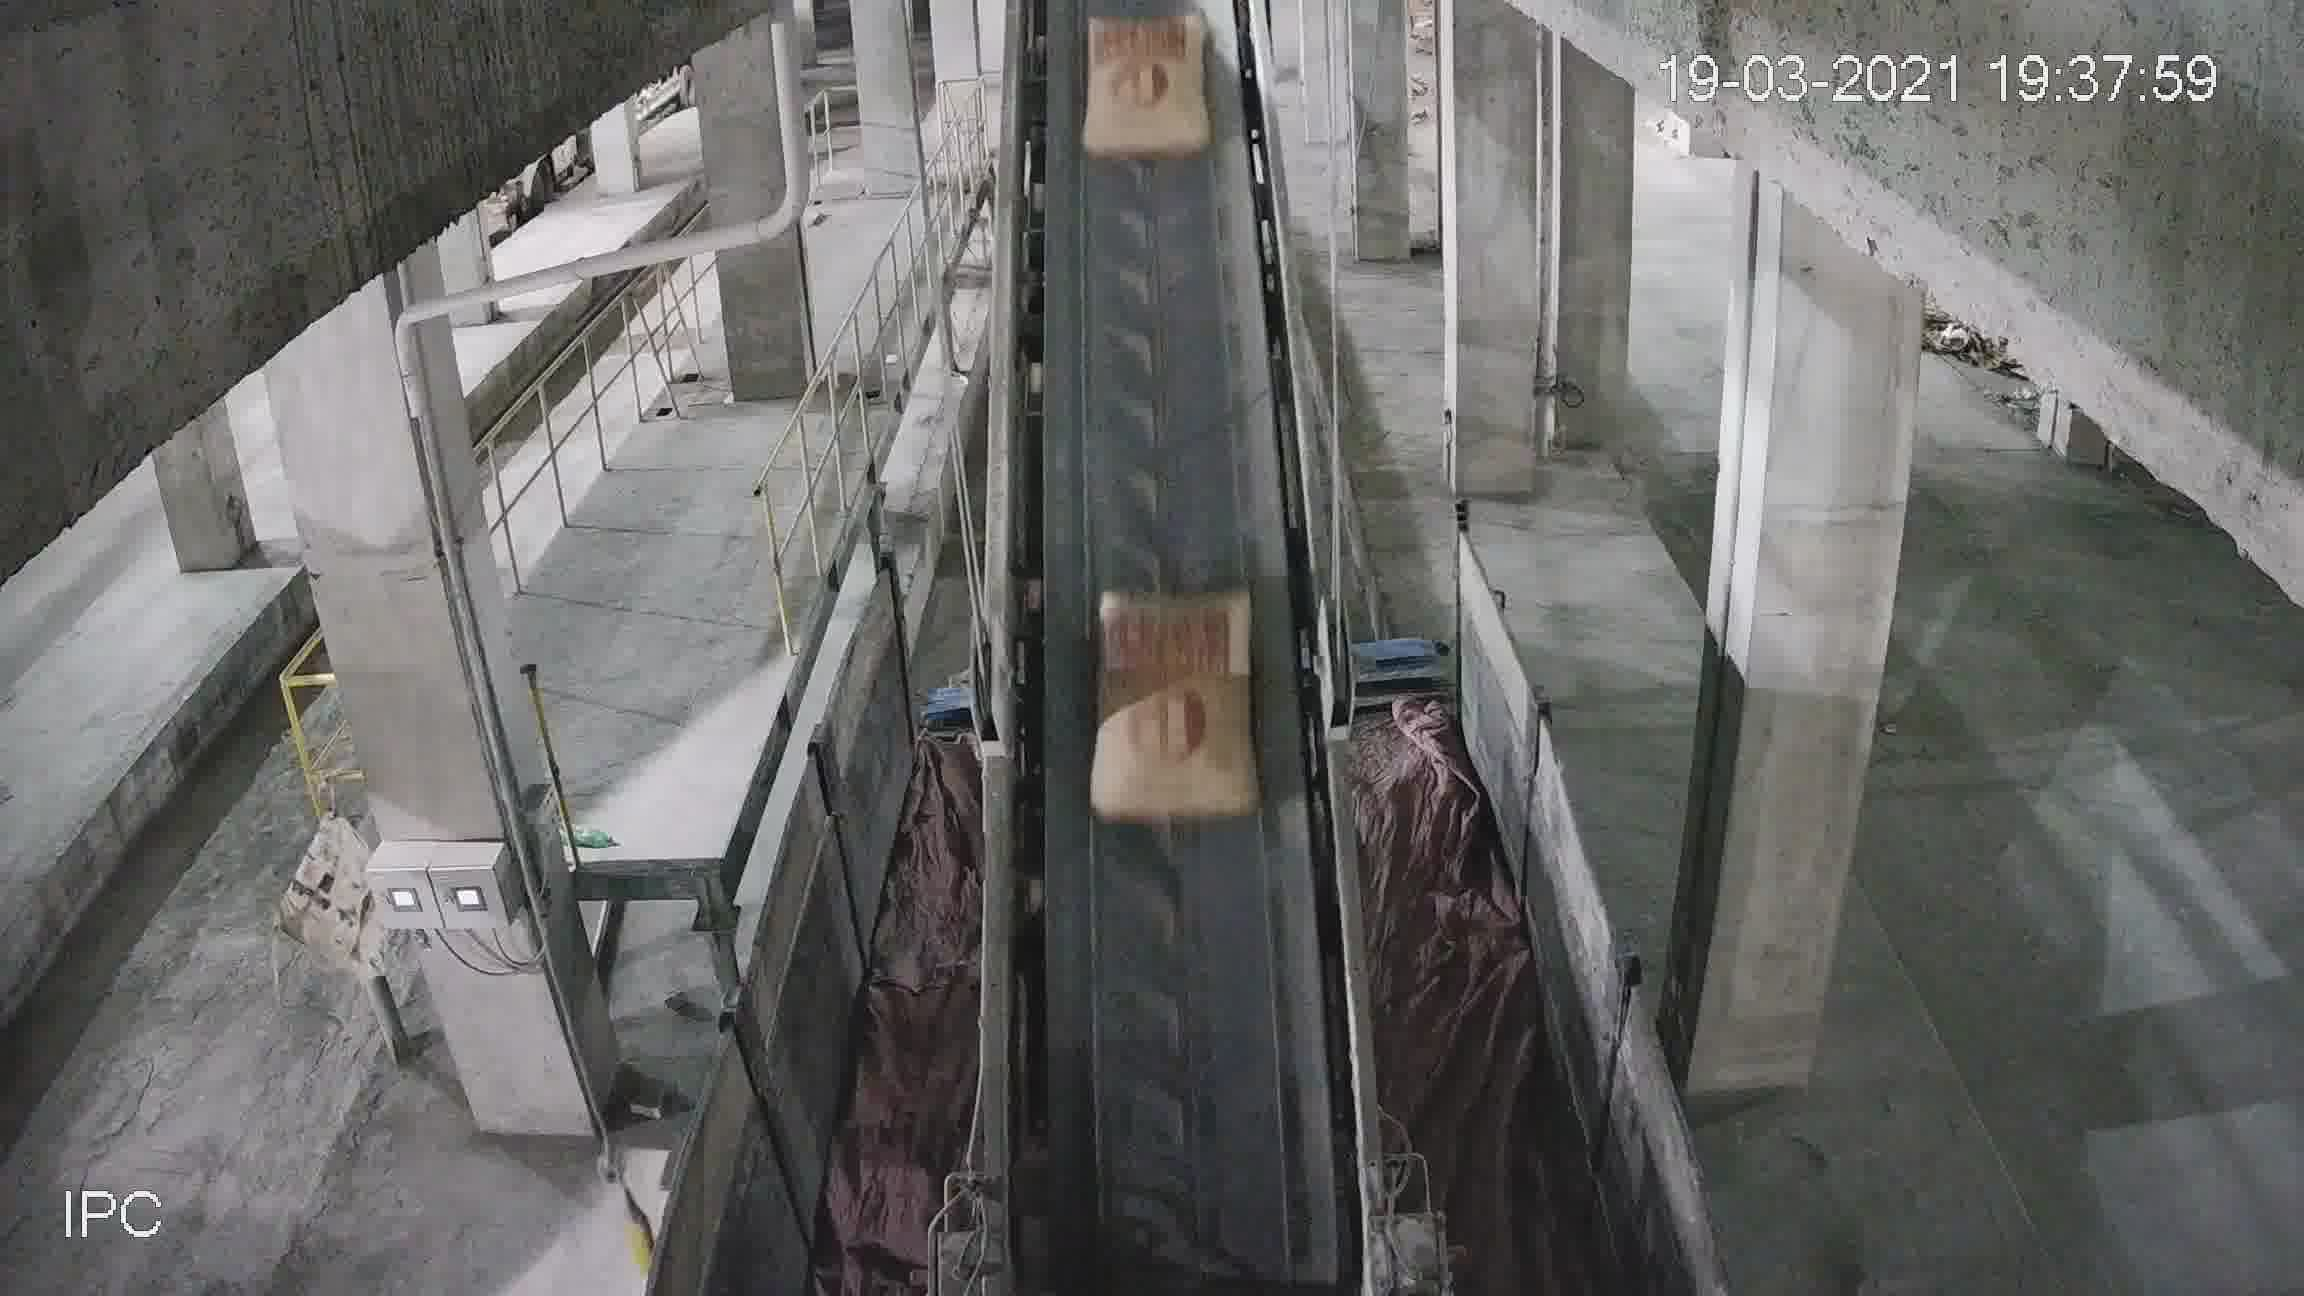bag: (1086, 582, 1255, 821), (1082, 17, 1211, 155)
belt: (987, 54, 1348, 1097)
